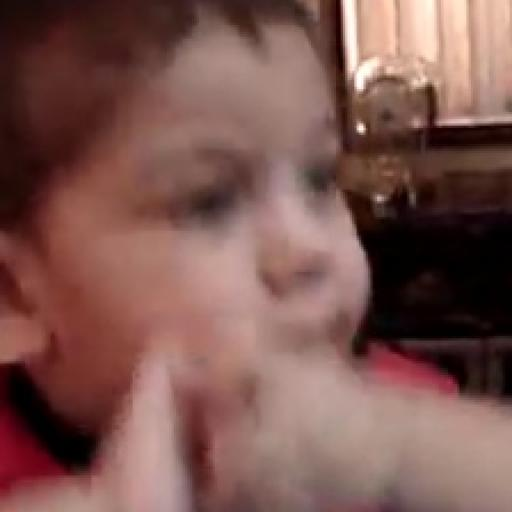Autism: (23, 6, 457, 506)
